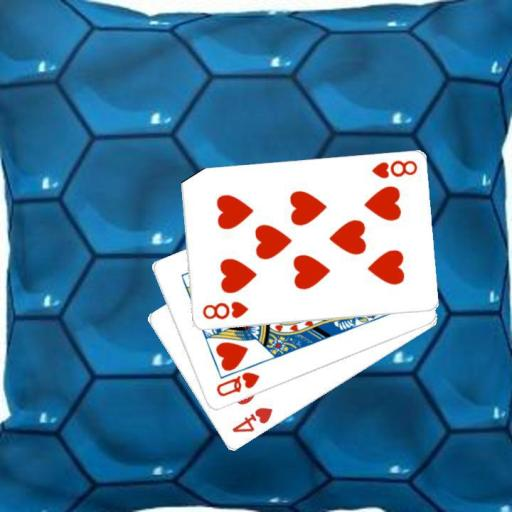4H: (228, 404, 274, 435)
8H: (368, 157, 418, 181), (199, 298, 250, 321)
QH: (213, 369, 261, 399)
